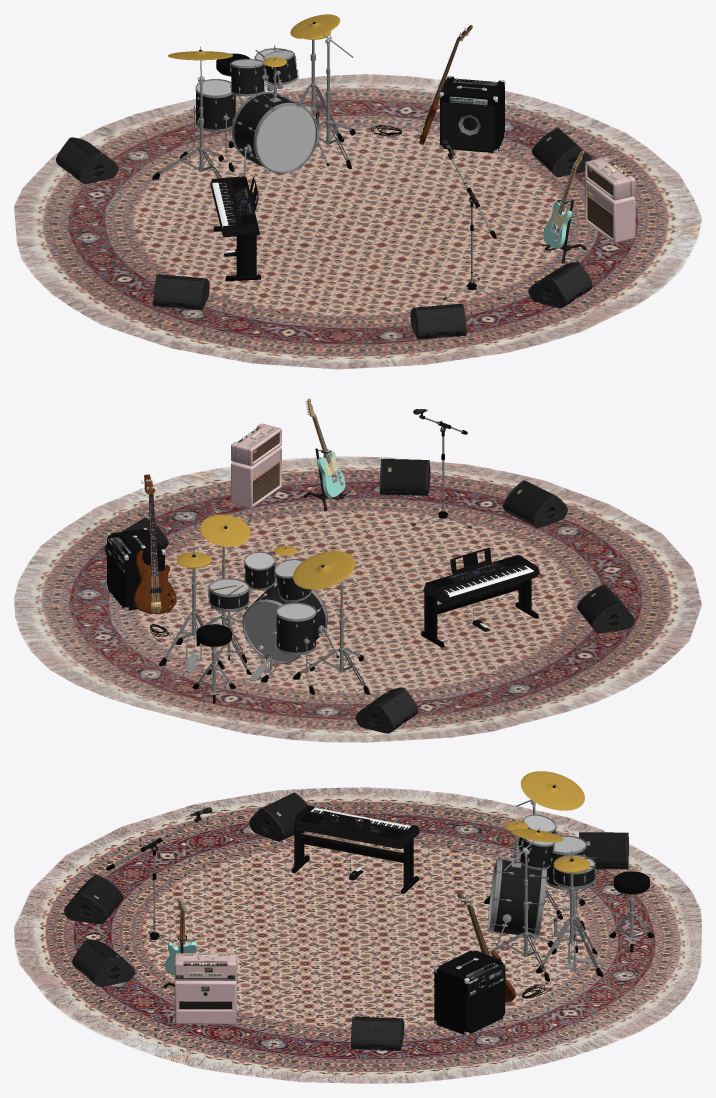
Rendered from stage.glb.
3 renders of one model, top to bottom at view 1: azimuth 30°, elevation 25°; view 2: azimuth 150°, elevation 25°; view 3: azimuth 270°, elevation 25°, orthographic. The views are drawn at different scales.
Visible parts, largest first — view 1: Object_2, Amp.HartkeHD75_0, Lid.004_40, Vox_Amp, monitor_speaker_lp_lambert2_0.002, monitor_speaker_lp_lambert2_0.003, monitor_speaker_lp_lambert2_0.001, monitor_speaker_lp, monitor_speaker_lp_lambert2_0.004, Bass_38, Guitar_Telecaster, Tom_Floor_5 (+7 smaller); view 2: Object_2, Vox_Amp, Amp.HartkeHD75_0, Bass.Aria_3, Lid.004_40, monitor_speaker_lp, monitor_speaker_lp_lambert2_0.003, monitor_speaker_lp_lambert2_0.002, monitor_speaker_lp_lambert2_0.001, Cymbal_Ride_8, Cymbal_Crash_14, Tom_Floor_5 (+14 smaller); view 3: Object_2, Amp.HartkeHD75_0, Vox_Amp, Bass_38, monitor_speaker_lp_lambert2_0.002, monitor_speaker_lp, Cymbal_Ride_8, monitor_speaker_lp_lambert2_0.004, monitor_speaker_lp_lambert2_0.001, monitor_speaker_lp_lambert2_0.003, Stand_Middle_low, Lid.004_40 (+10 smaller).
Boxes of the visible parts, x1,y1,x2,y2 form: Object_2: [14, 74, 701, 369]; Amp.HartkeHD75_0: [439, 76, 505, 153]; Lid.004_40: [231, 91, 317, 173]; Vox_Amp: [585, 157, 635, 243]; monitor_speaker_lp_lambert2_0.002: [528, 262, 592, 308]; monitor_speaker_lp_lambert2_0.003: [56, 137, 118, 183]; monitor_speaker_lp_lambert2_0.001: [153, 274, 209, 310]; monitor_speaker_lp: [410, 303, 466, 339]; monitor_speaker_lp_lambert2_0.004: [532, 128, 592, 177]; Bass_38: [234, 93, 294, 167]; Guitar_Telecaster: [543, 150, 584, 248]; Tom_Floor_5: [196, 91, 235, 129]; Object_2: [14, 456, 701, 742]; Vox_Amp: [231, 423, 281, 508]; Amp.HartkeHD75_0: [106, 528, 165, 611]; Bass.Aria_3: [133, 474, 176, 614]; Lid.004_40: [242, 581, 327, 663]; monitor_speaker_lp: [502, 480, 567, 527]; monitor_speaker_lp_lambert2_0.003: [355, 687, 418, 733]; monitor_speaker_lp_lambert2_0.002: [379, 458, 430, 495]; monitor_speaker_lp_lambert2_0.001: [577, 584, 634, 633]; Cymbal_Ride_8: [293, 551, 355, 589]; Cymbal_Crash_14: [200, 514, 250, 546]; Tom_Floor_5: [276, 615, 315, 652]; Object_2: [14, 787, 701, 1083]; Amp.HartkeHD75_0: [434, 949, 505, 1035]; Vox_Amp: [174, 953, 236, 1024]; Bass_38: [493, 860, 541, 936]; monitor_speaker_lp_lambert2_0.002: [72, 939, 135, 986]; monitor_speaker_lp: [64, 874, 123, 924]; Cymbal_Ride_8: [520, 771, 584, 810]; monitor_speaker_lp_lambert2_0.004: [350, 1016, 404, 1050]; monitor_speaker_lp_lambert2_0.001: [249, 792, 308, 841]; monitor_speaker_lp_lambert2_0.003: [579, 832, 628, 869]; Stand_Middle_low: [302, 833, 403, 862]; Lid.004_40: [487, 859, 546, 937].
Size of the model in its own units: 9.04 by 1.95 by 8.87.
24 materials, 19 textured.
